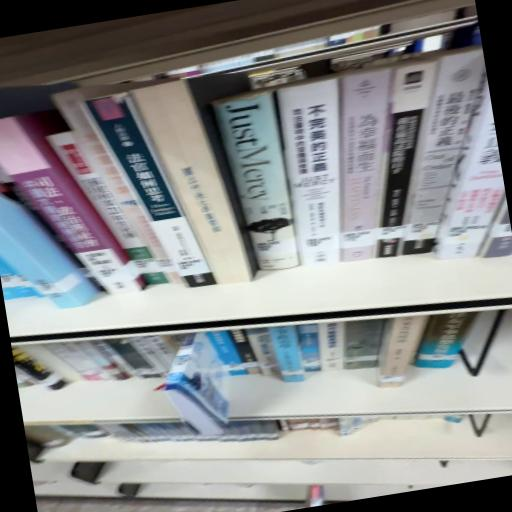backward: (129, 71, 261, 295)
